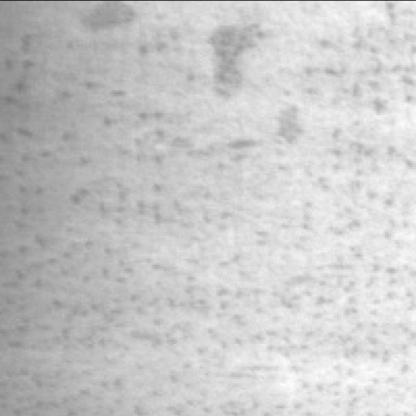pitted_surface: (0, 39, 407, 416), (75, 4, 412, 133)
